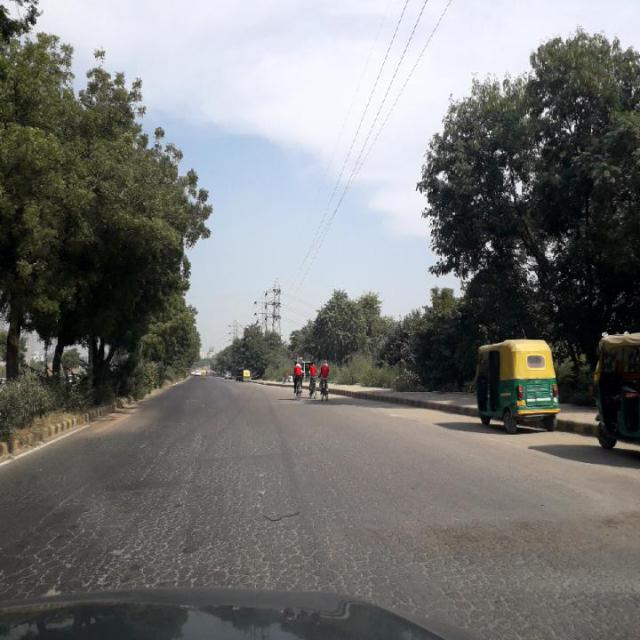crack: (1, 434, 322, 594), (336, 473, 640, 640)
